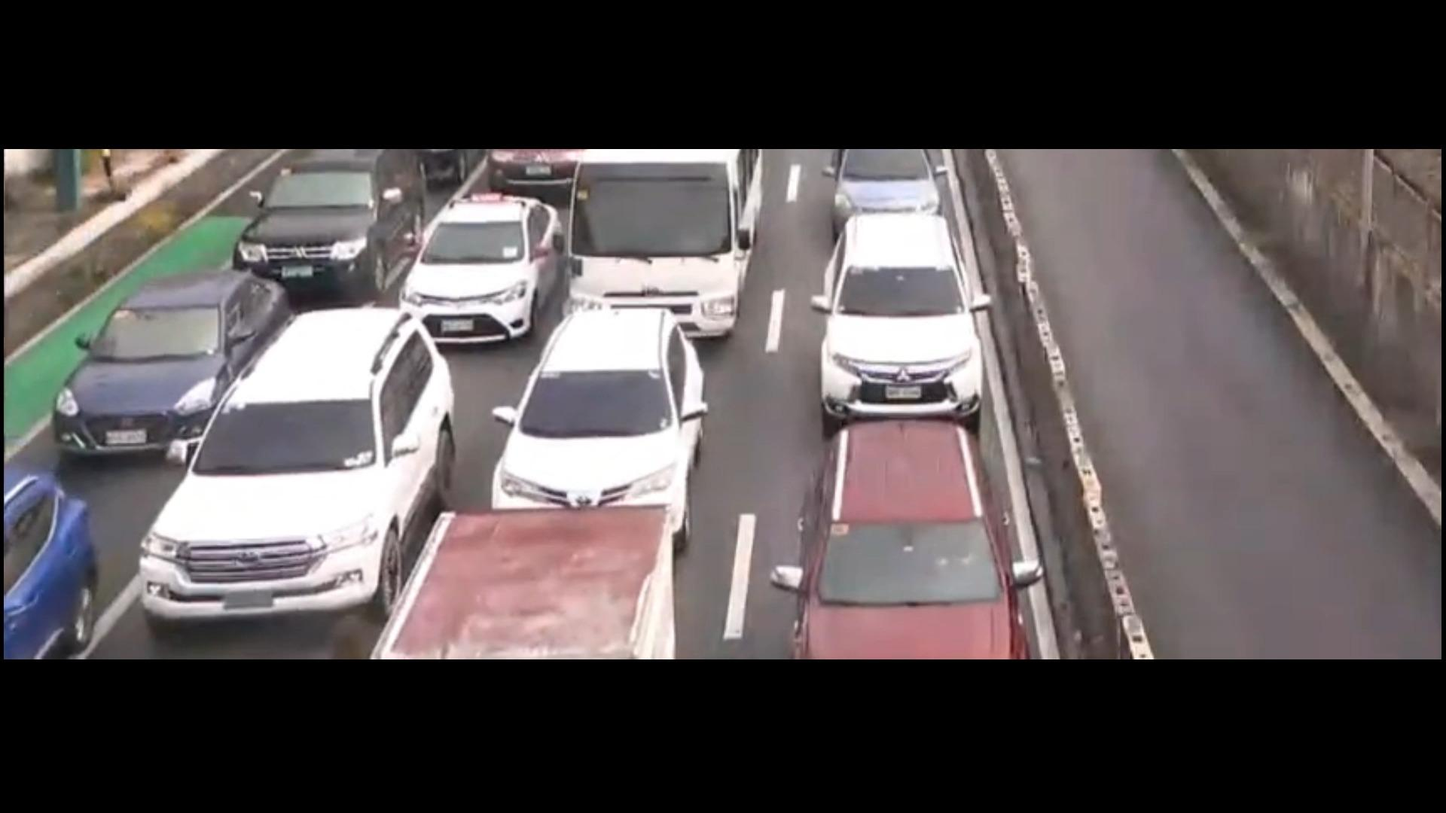Bus: (568, 147, 758, 333)
SUV: (135, 309, 458, 628), (792, 423, 1031, 665), (491, 303, 711, 529), (818, 220, 987, 427), (226, 148, 425, 305), (0, 458, 122, 659)
Sedan: (43, 276, 291, 466), (396, 198, 560, 346), (824, 149, 950, 226)
